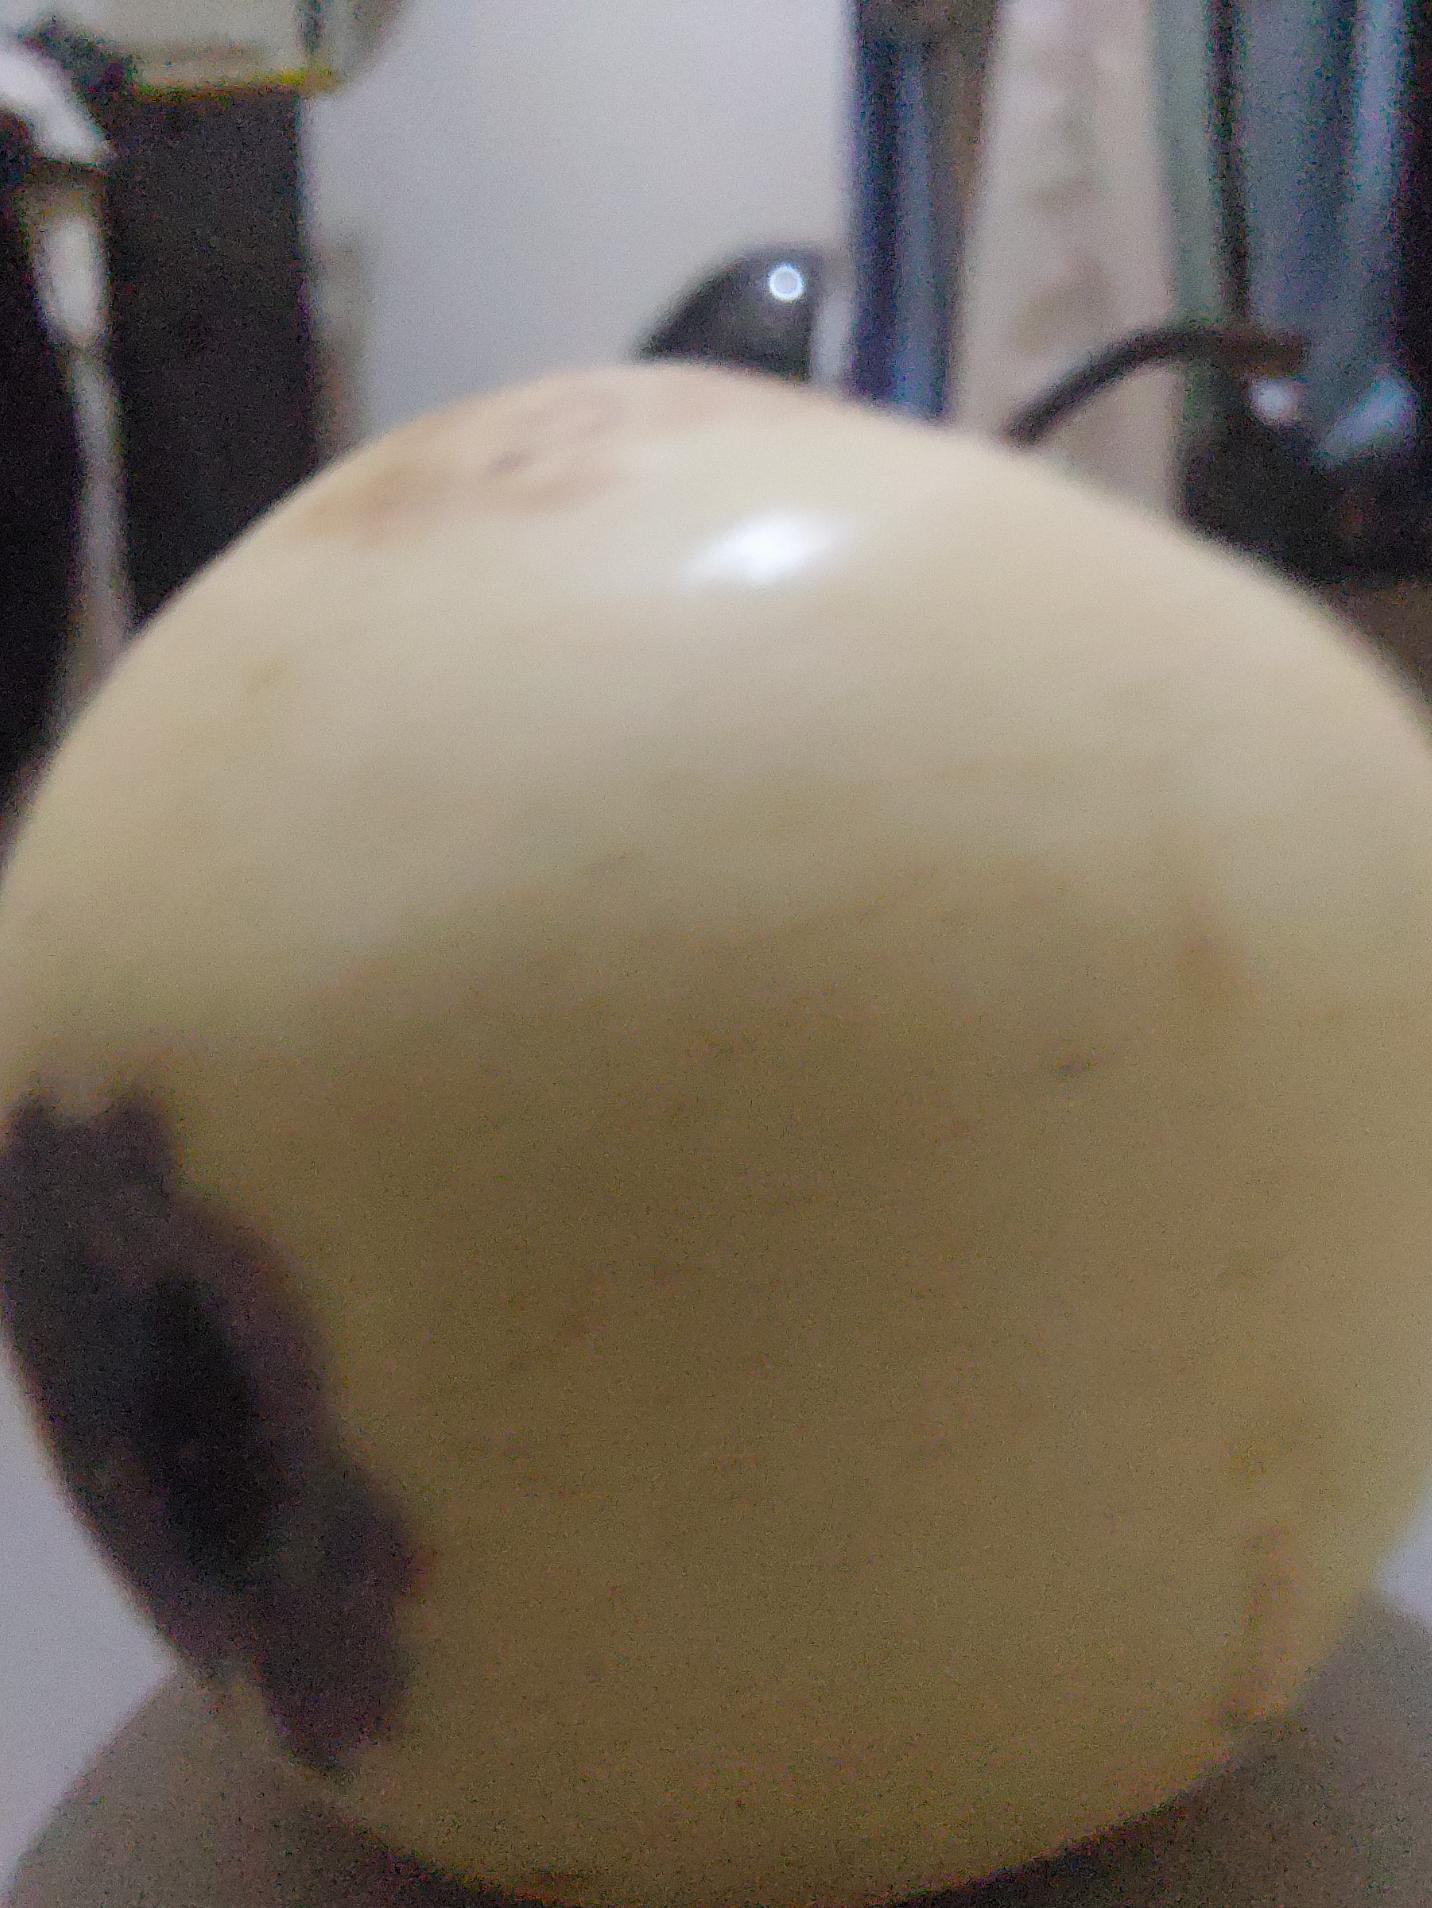Bad Pear: (0, 346, 1432, 1908)
